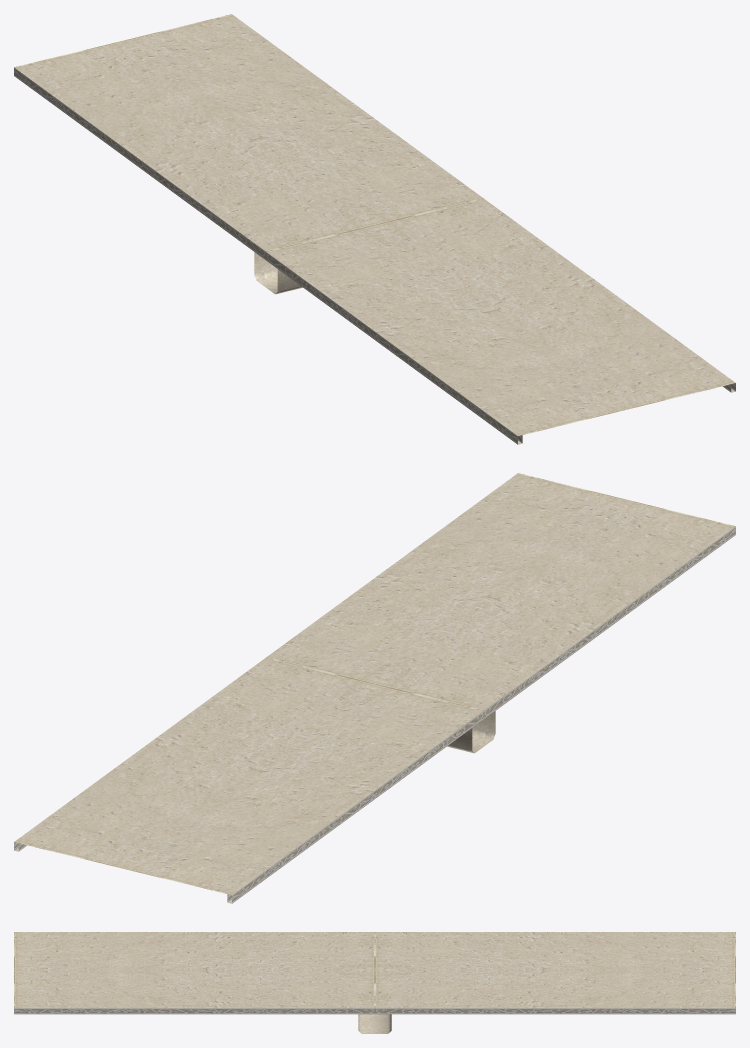
Rendered from dungeon_Tile_01_Roof_Additional.fbx.
3 views of the same model, one above another, from view 1: azimuth 30°, elevation 25°; view 2: azimuth 150°, elevation 25°; view 3: azimuth 270°, elevation 25° (orthographic). The views are drawn at different scales.
Visible parts, largest first — view 1: dungeon_Tile_01_Roof_Additional; view 2: dungeon_Tile_01_Roof_Additional; view 3: dungeon_Tile_01_Roof_Additional.
Part boxes in pixels (left/top/right/bottom): dungeon_Tile_01_Roof_Additional: left=14, top=14, right=735, bottom=444; dungeon_Tile_01_Roof_Additional: left=14, top=473, right=735, bottom=903; dungeon_Tile_01_Roof_Additional: left=14, top=932, right=735, bottom=1033.
Bounding box in the file's own units: 29.97 × 4.71 × 120.
